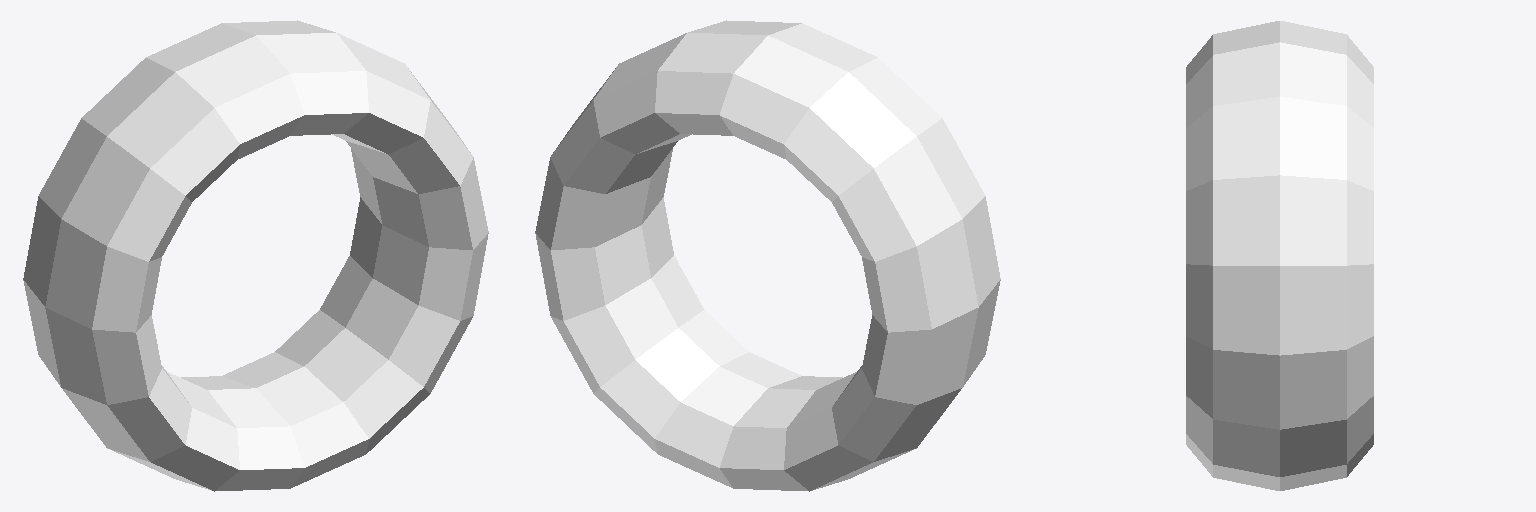
robot.urdf — torus.urdf:
<?xml version="1.0" ?>
<robot name="torus.urdf">
  <link name="baseLink">

    <inertial>
      <origin rpy="0 0 0" xyz="0 0 0"/>
       <mass value="0.0"/>
       <inertia ixx="0" ixy="0" ixz="0" iyy="0" iyz="0" izz="0"/>
    </inertial>
    <visual>
      <origin rpy="0 0 0" xyz="0 0 0"/>
      <geometry>
        <mesh filename="torus.obj" scale="1.0 1.0 1.0"/>
      </geometry>
      <material name="white">
       <color rgba="1 1 1 1"/>
     </material>
    </visual>
    <collision>
      <origin rpy="0 0 0" xyz="0 0 0"/>
      <geometry>
        <mesh filename="torus.obj" scale="1.0 1.0 1.0"/>
        <!-- You could also specify the collision (for the torus) with a "box" tag: -->
        <!-- <box size=".06 .06 .06"/> -->
      </geometry>
    </collision>
  </link>
</robot>
        

--- Render facts (derived) ---
3 views of the same robot in one strip: view 1: azimuth 30°, elevation 25°; view 2: azimuth 150°, elevation 25°; view 3: azimuth 270°, elevation 25° (orthographic).
Model torus.urdf with 1 links and 0 joints (none), rooted at baseLink, posed every joint at zero.
Visible links, largest first — view 1: baseLink; view 2: baseLink; view 3: baseLink.
Link boxes in pixels (<box>): baseLink: <box>23,20,488,491</box>; baseLink: <box>535,20,1000,491</box>; baseLink: <box>1186,21,1373,490</box>.
Size in the robot's own frame: 1 by 0.4 by 1 metres.
Meshes: 1 distinct files referenced, 1 mesh visuals loaded (1 OBJ).